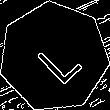L_NW: (25, 28, 83, 86)
